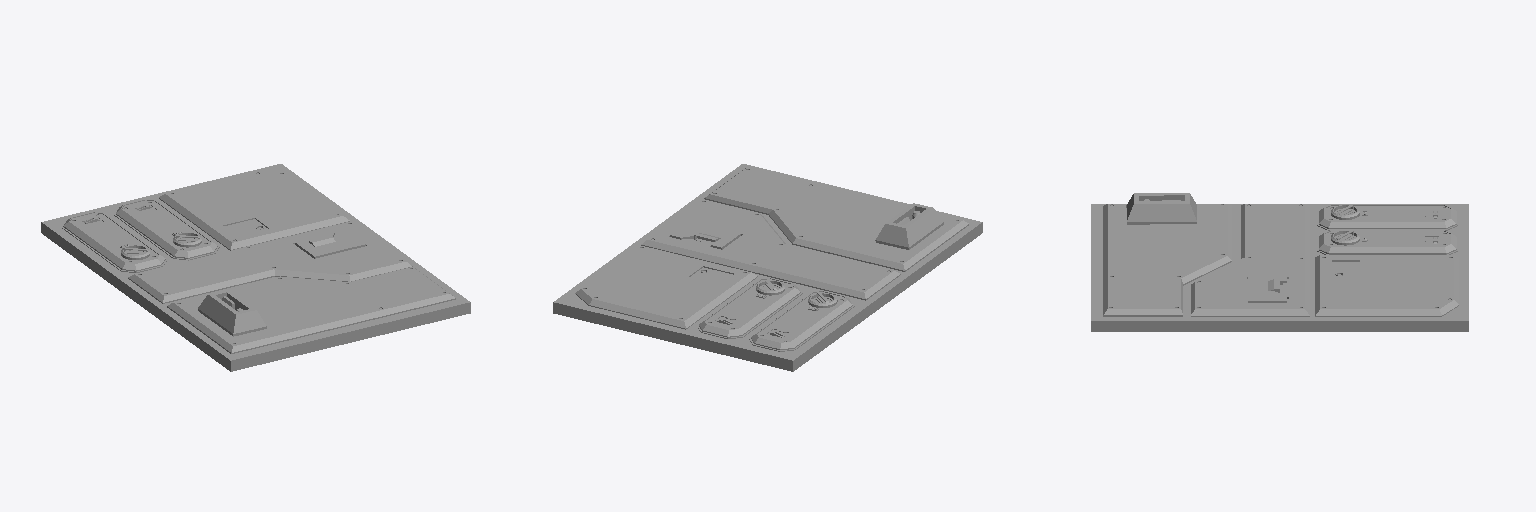
Rendered from s2_middle_panel_2.obj.
The picture shows the model from 3 angles: view 1: azimuth 30°, elevation 25°; view 2: azimuth 150°, elevation 25°; view 3: azimuth 270°, elevation 25°; orthographic projection.
Visible parts, largest first — view 1: mesh_0; view 2: mesh_0; view 3: mesh_0.
Part boxes in pixels (x1,y1,x2,y2): mesh_0: (41,164,470,371); mesh_0: (553,164,982,371); mesh_0: (1091,193,1468,331).
Size of the model in its own units: 27.9 by 3.86 by 38.16.